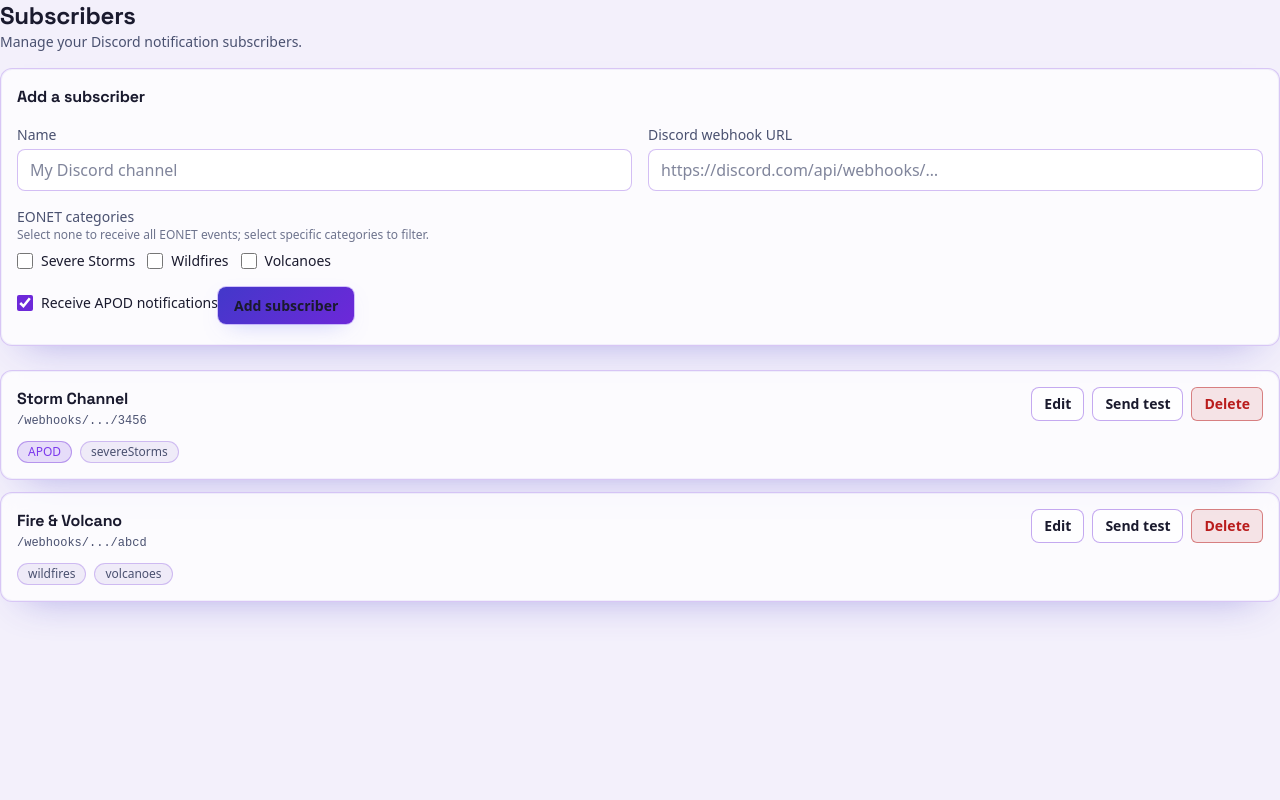
Test: Subscribers — VAL-FE-SUB-005 edit in place › PATCHes name + categories and the row reflects new values in place
This screenshot has width=1280, height=800.
Click the button with test id "subscriber-edit-btn" in the row of "/webhooks/.../3456" at (1058, 404), box [1031,387,1084,421]
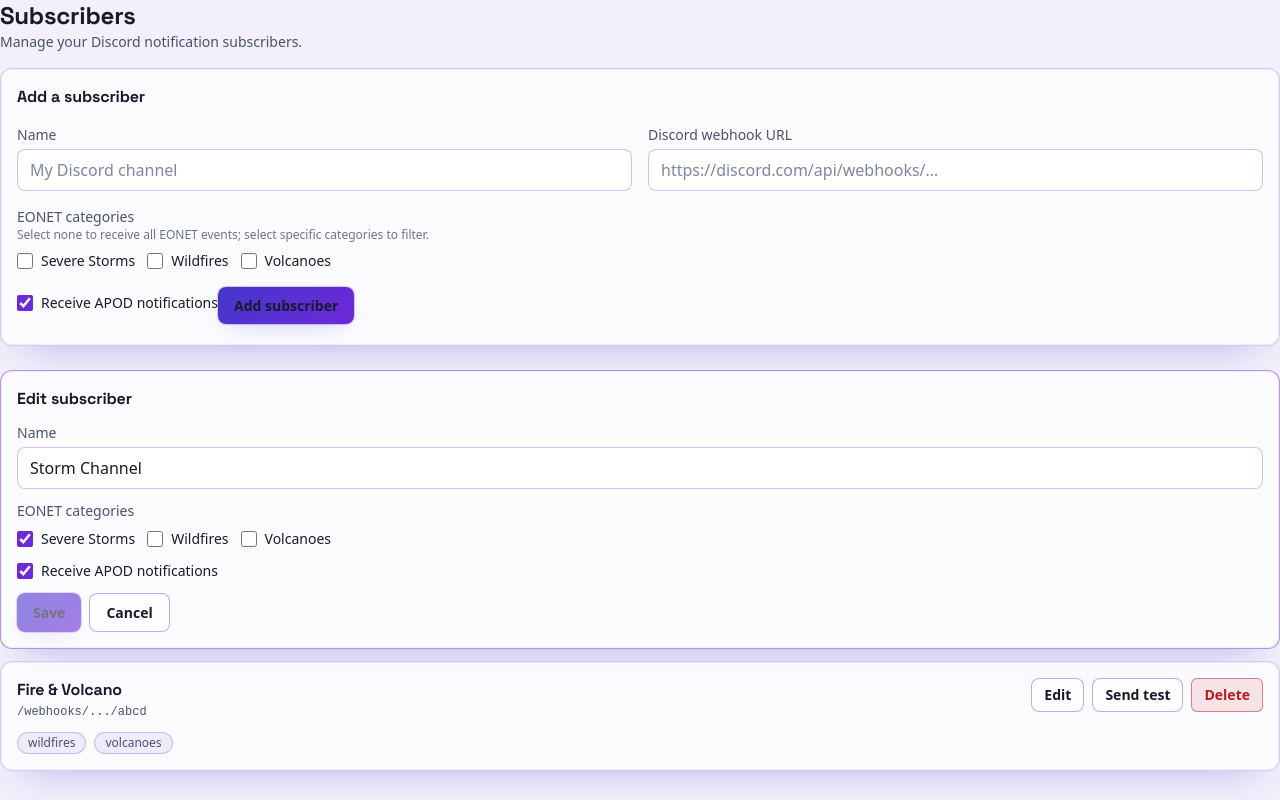
Replace the text in the field with test id "edit-name-input" with "Renamed Channel" at (640, 468), box [17,447,1263,489]
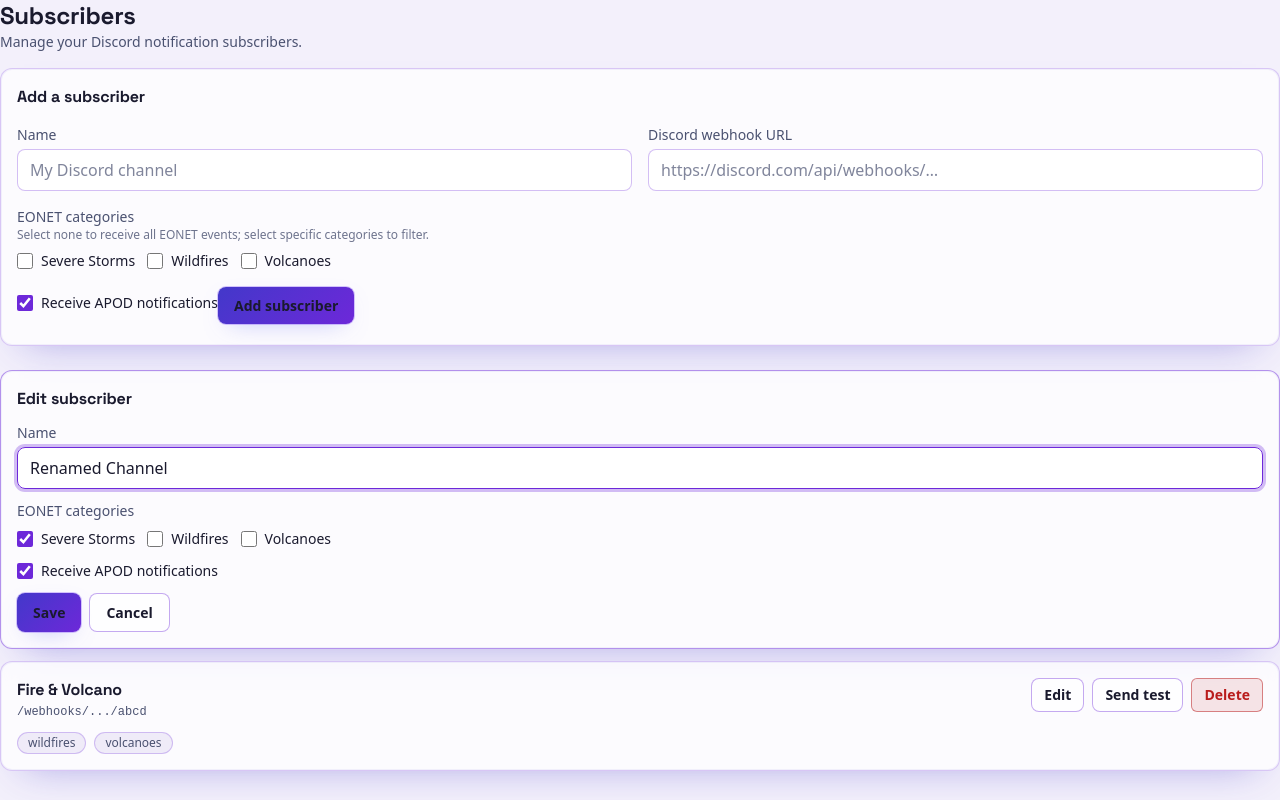
Click the checkbox with test id "edit-category-checkbox" below "Edit subscriber" at (25, 539), box [17,531,33,547]
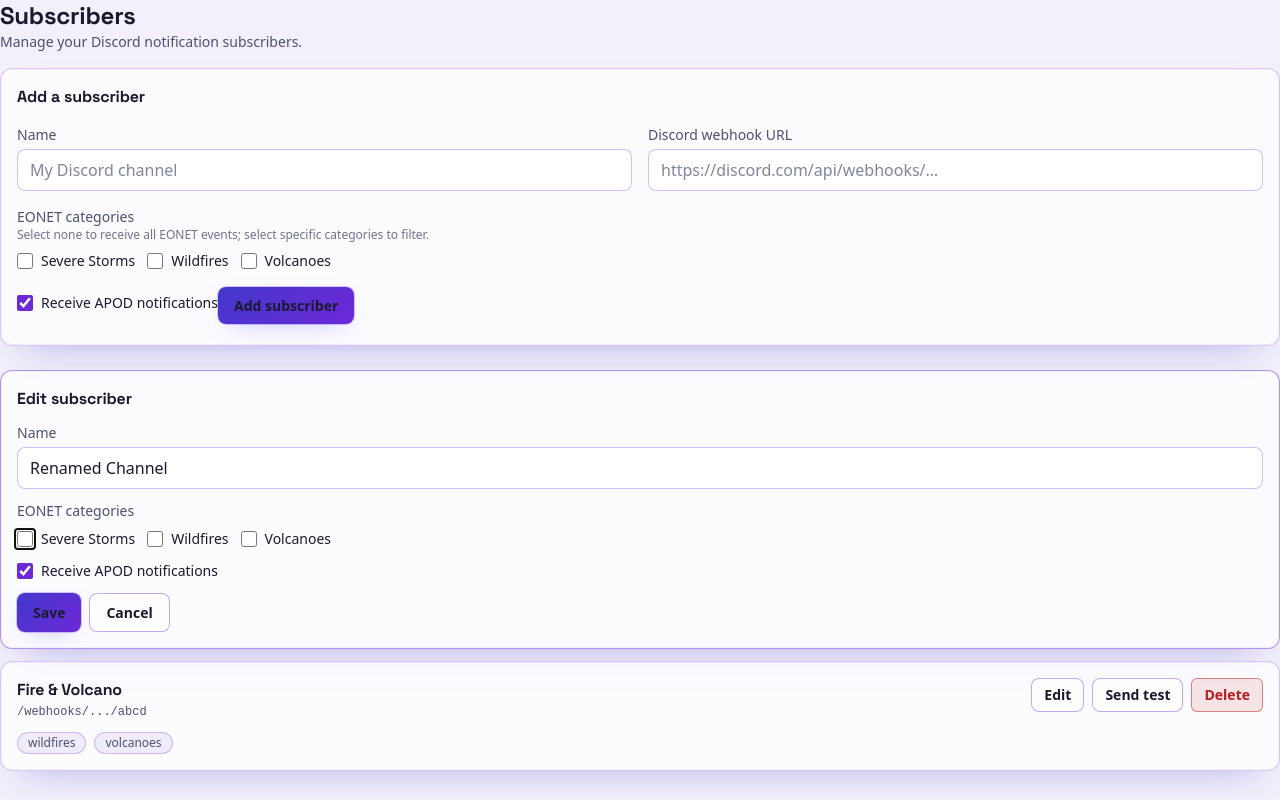
Click the checkbox with test id "edit-category-checkbox" below "Edit subscriber" at (248, 539), box [240,531,256,547]
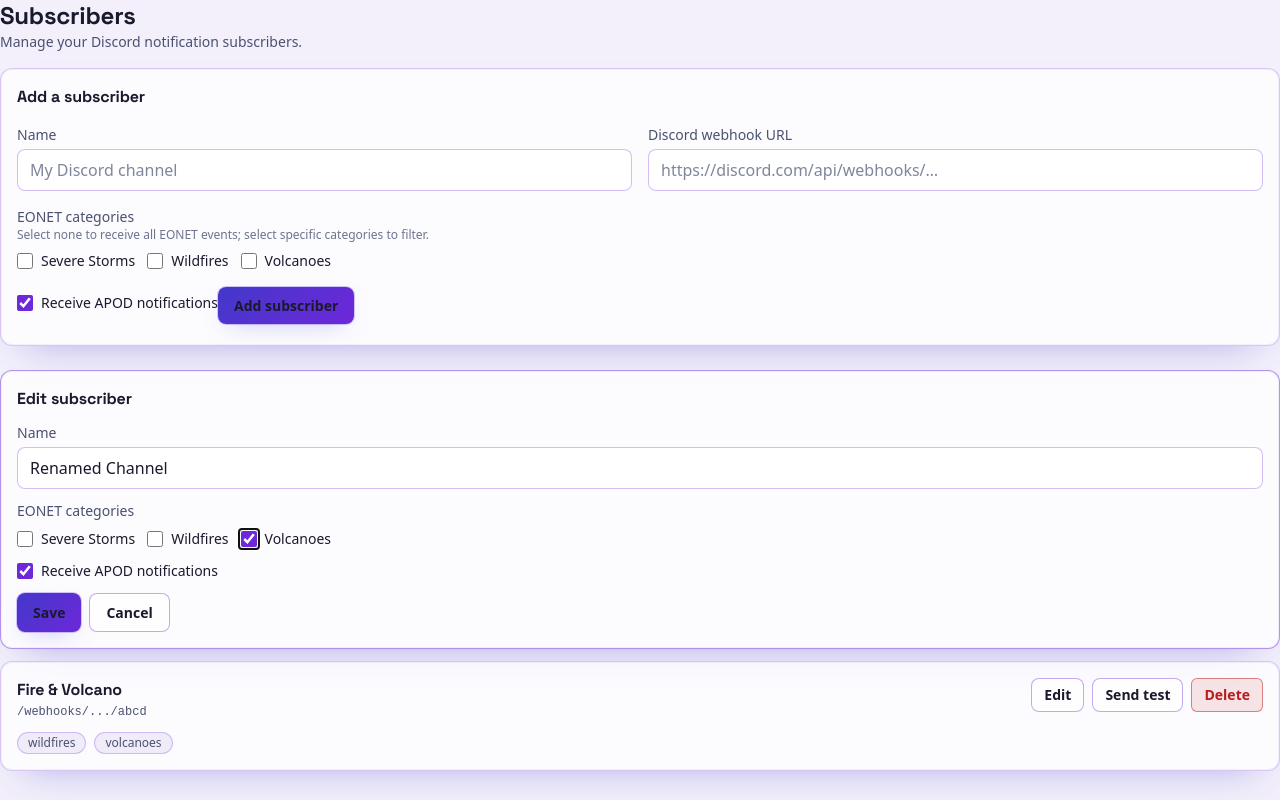
Click the button with test id "edit-save-btn" at (49, 612), box [17,593,81,632]
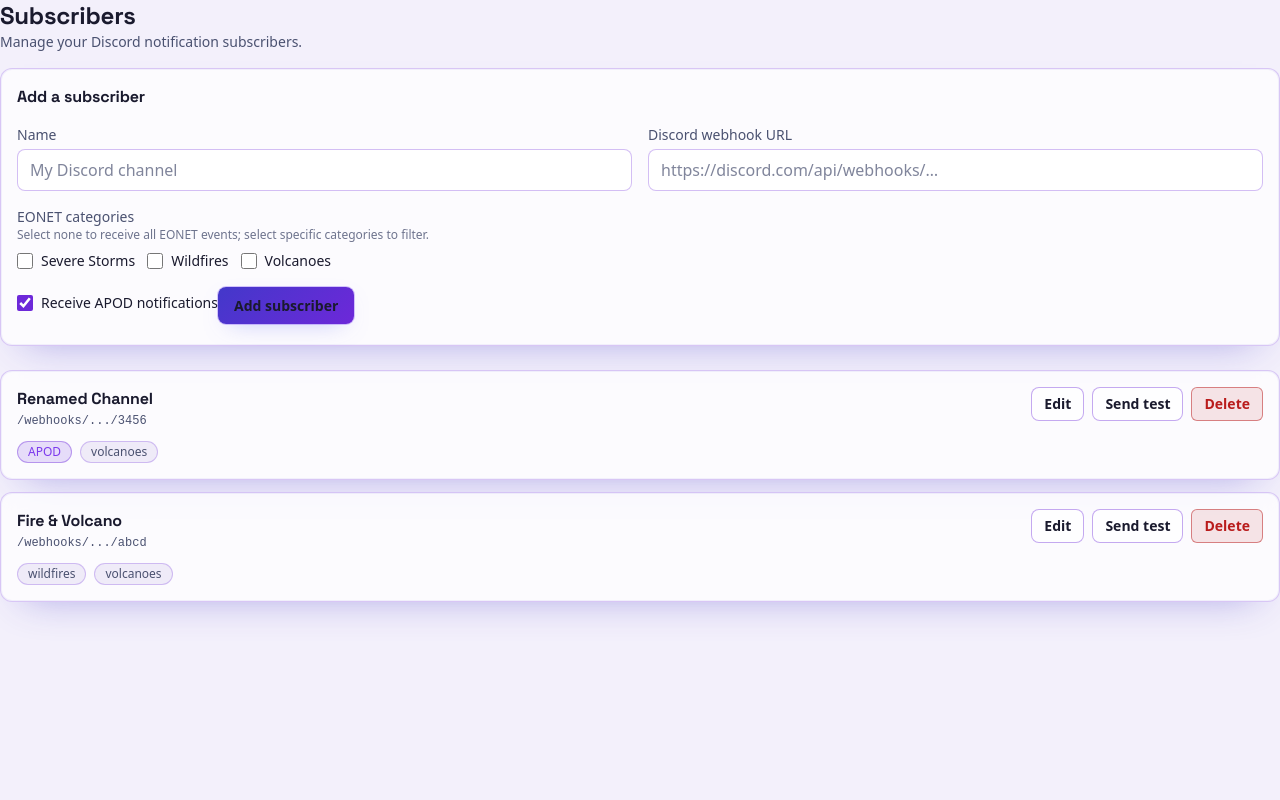
Check: the list item with test id "subscriber-edit-form" is gone
Check: the heading with test id "subscriber-name" reads "Renamed Channel", box [17,388,153,409]
